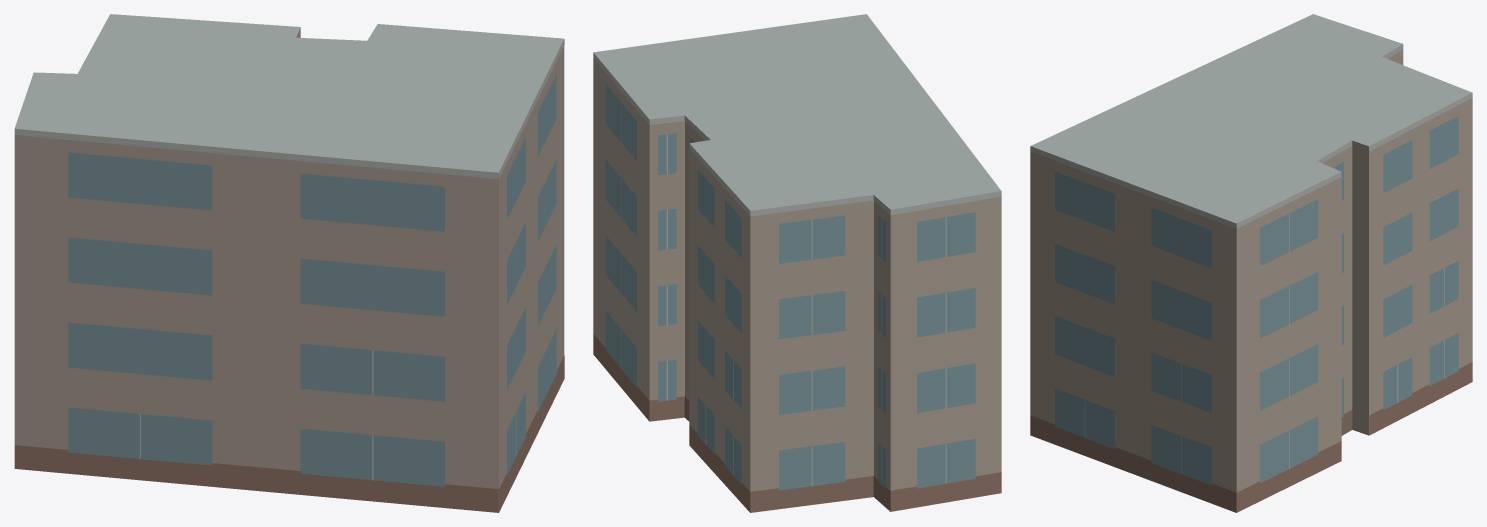
File: survey-upis-32913959.glb
3 views of the same model, side by side, from view 1: azimuth 30°, elevation 25°; view 2: azimuth 150°, elevation 25°; view 3: azimuth 270°, elevation 25° (orthographic). The views are drawn at different scales.
Visible parts, largest first — view 1: survey-upis-32913959.tmp; view 2: survey-upis-32913959.tmp; view 3: survey-upis-32913959.tmp.
Boxes of the visible parts, box(x1,y1,x2,y2) form: survey-upis-32913959.tmp: box(14, 14, 564, 512); survey-upis-32913959.tmp: box(593, 14, 1001, 512); survey-upis-32913959.tmp: box(1030, 14, 1472, 512).
Bounding box in the file's own units: 20.51 × 13.2 × 18.29.
